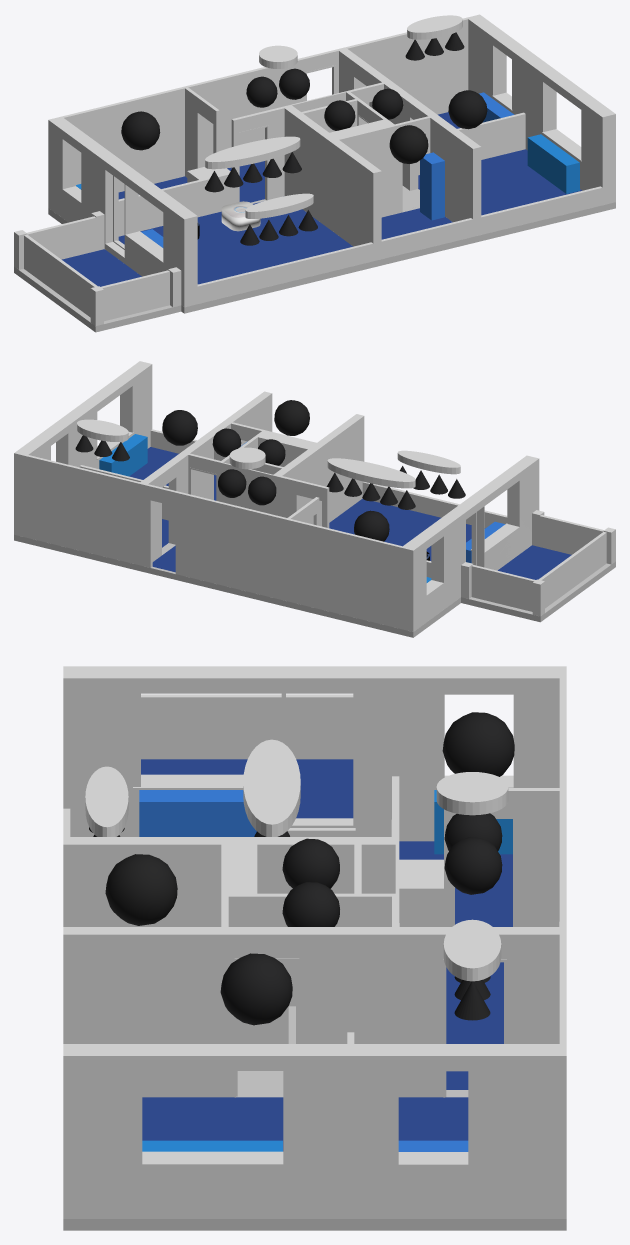
File: home.gltf
3 renders of one model, top to bottom at view 1: azimuth 30°, elevation 25°; view 2: azimuth 150°, elevation 25°; view 3: azimuth 270°, elevation 25°, orthographic. The views are drawn at different scales.
Visible parts, largest first — view 1: Rooms, Livingroom_floor, Ground.001, Office_floor, Office Heater, Livingroom Center Light Group, Balcony_floor, Bathroom Heater, Kitchen, Office Bulb, Bathroom, Bathroom_floor (+10 smaller); view 2: Rooms, Ground.001, Livingroom_floor, Livingroom Center Light Group, Balcony_floor, Office Heater, Office Bulb, Bathroom, Livingroom Malms Light Group, Bedroom Light Group, Kitchen, Office_floor (+6 smaller); view 3: Rooms, Ground.001, Office_floor, Livingroom Heater, Balcony_floor, Livingroom Center Light Group, Bathroom, Office Bulb, Kitchen, Hallway_floor, Bedroom_floor, Kitchen_floor (+12 smaller).
Boxes of the visible parts, bbox=[...] form: Rooms: bbox=[14, 14, 615, 325]; Livingroom_floor: bbox=[140, 202, 352, 284]; Ground.001: bbox=[14, 189, 615, 332]; Office_floor: bbox=[418, 149, 582, 215]; Office Heater: bbox=[527, 134, 579, 193]; Livingroom Center Light Group: bbox=[205, 136, 300, 169]; Balcony_floor: bbox=[62, 249, 141, 286]; Bathroom Heater: bbox=[420, 152, 444, 220]; Kitchen: bbox=[121, 111, 160, 150]; Office Bulb: bbox=[448, 90, 487, 129]; Bathroom: bbox=[389, 125, 428, 163]; Bathroom_floor: bbox=[381, 208, 452, 239]; Rooms: bbox=[14, 361, 615, 631]; Ground.001: bbox=[14, 534, 615, 637]; Livingroom_floor: bbox=[329, 498, 484, 560]; Livingroom Center Light Group: bbox=[327, 458, 415, 488]; Balcony_floor: bbox=[498, 545, 571, 579]; Office Heater: bbox=[99, 434, 147, 476]; Office Bulb: bbox=[162, 410, 197, 445]; Bathroom: bbox=[274, 400, 309, 435]; Livingroom Malms Light Group: bbox=[397, 450, 460, 474]; Bedroom Light Group: bbox=[77, 419, 128, 441]; Kitchen: bbox=[354, 510, 389, 541]; Office_floor: bbox=[129, 447, 216, 500]; Rooms: bbox=[63, 666, 566, 1218]; Ground.001: bbox=[63, 1090, 566, 1230]; Office_floor: bbox=[142, 1097, 283, 1151]; Livingroom Heater: bbox=[139, 790, 256, 836]; Balcony_floor: bbox=[141, 759, 353, 818]; Livingroom Center Light Group: bbox=[243, 739, 300, 836]; Bathroom: bbox=[105, 854, 177, 925]; Office Bulb: bbox=[220, 953, 292, 1025]; Kitchen: bbox=[442, 712, 514, 776]; Hallway_floor: bbox=[446, 962, 503, 1089]; Bedroom_floor: bbox=[398, 1097, 468, 1140]; Kitchen_floor: bbox=[399, 841, 512, 926].
Bounding box in the file's own units: 15.38 × 3.68 × 7.01.
41 materials, 2 textured.
